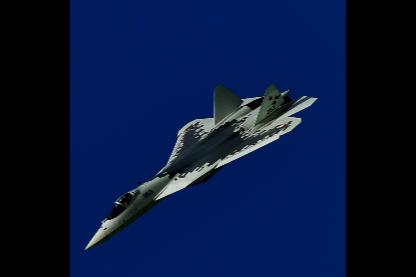SR71: (84, 83, 318, 249)
